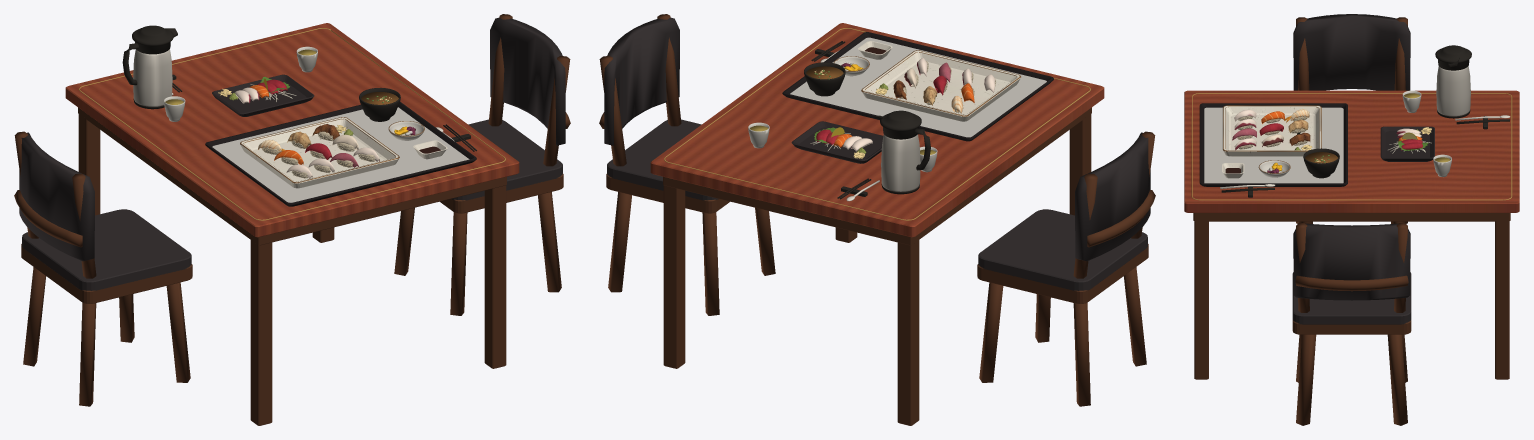
The model's file is gallery.glb.
3 renders of one model, left to right at view 1: azimuth 30°, elevation 25°; view 2: azimuth 150°, elevation 25°; view 3: azimuth 270°, elevation 25°, orthographic. The views are drawn at different scales.
Parts seen in each view (by area): view 1: KisaraDining, KisaraGlazedServing, KisaraBrushedSteel; view 2: KisaraDining, KisaraGlazedServing, KisaraBrushedSteel; view 3: KisaraDining, KisaraGlazedServing, KisaraBrushedSteel.
Boxes of the visible parts, x1,y1,x2,y2 form: KisaraDining: (14,14,570,425); KisaraGlazedServing: (65,23,519,237); KisaraBrushedSteel: (133,49,454,141); KisaraDining: (599,14,1155,425); KisaraGlazedServing: (650,23,1104,237); KisaraBrushedSteel: (820,50,920,201); KisaraDining: (1191,14,1512,425); KisaraGlazedServing: (1184,90,1519,212); KisaraBrushedSteel: (1220,66,1510,188).
Size of the model in its own units: 1.99 by 1.02 by 1.28.
Materials: 3 (1 with a texture image).
